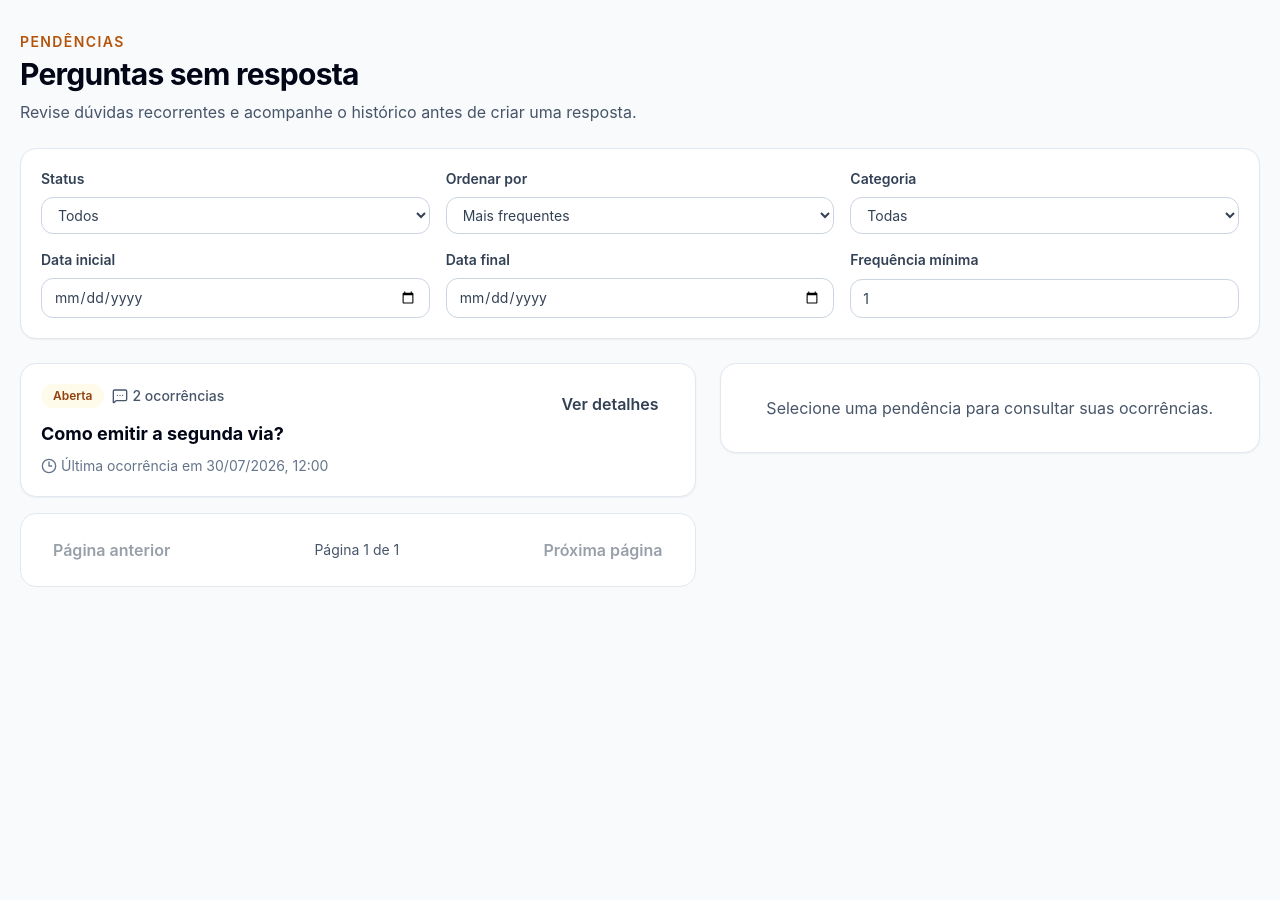
Scenario: knowledge gap administration › dismisses an open gap with a reason and then offers reopening
Click the button "Ver detalhes": (610, 404) x1=545 y1=384 x2=675 y2=424
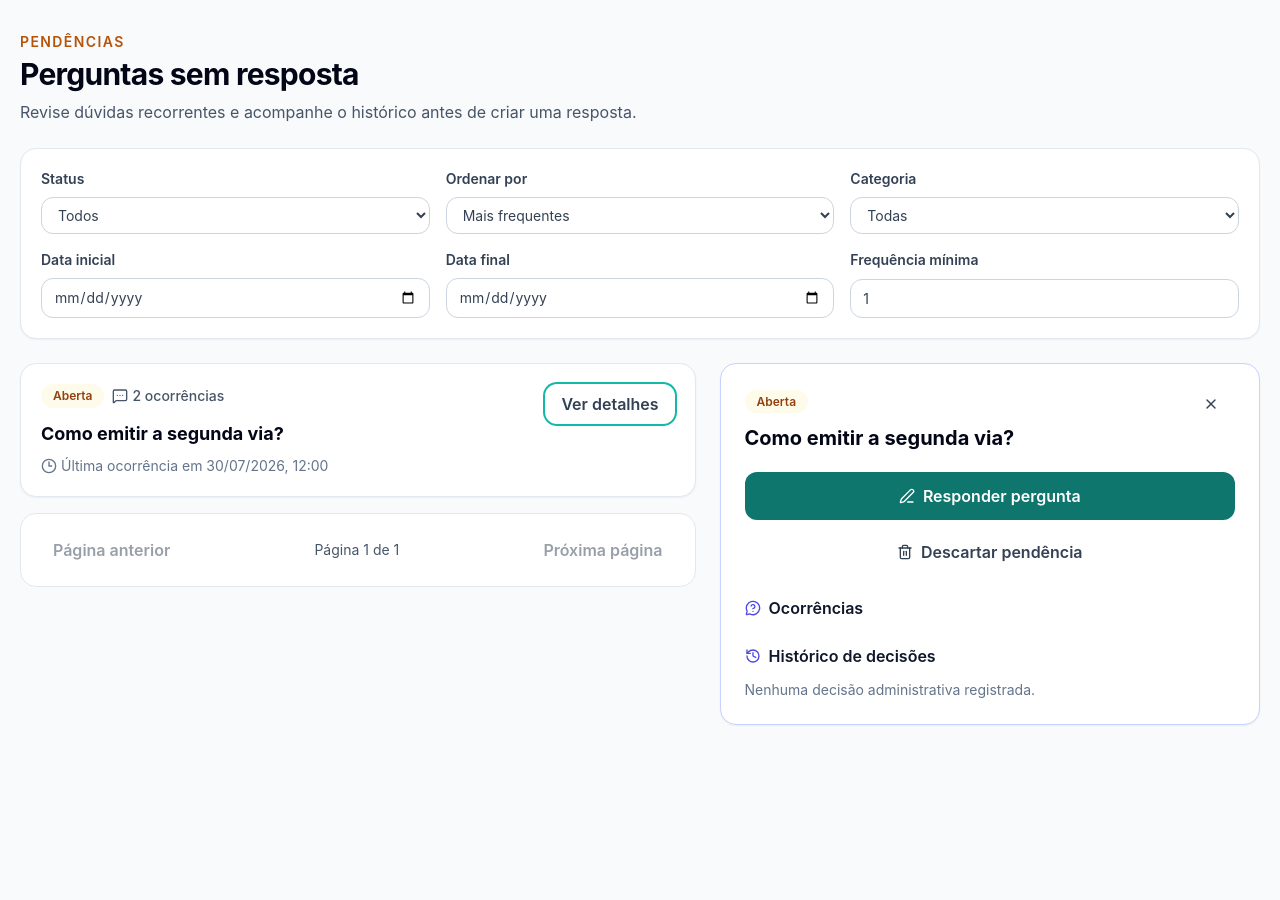
Click the button "Descartar pendência": (990, 552) x1=744 y1=532 x2=1235 y2=572
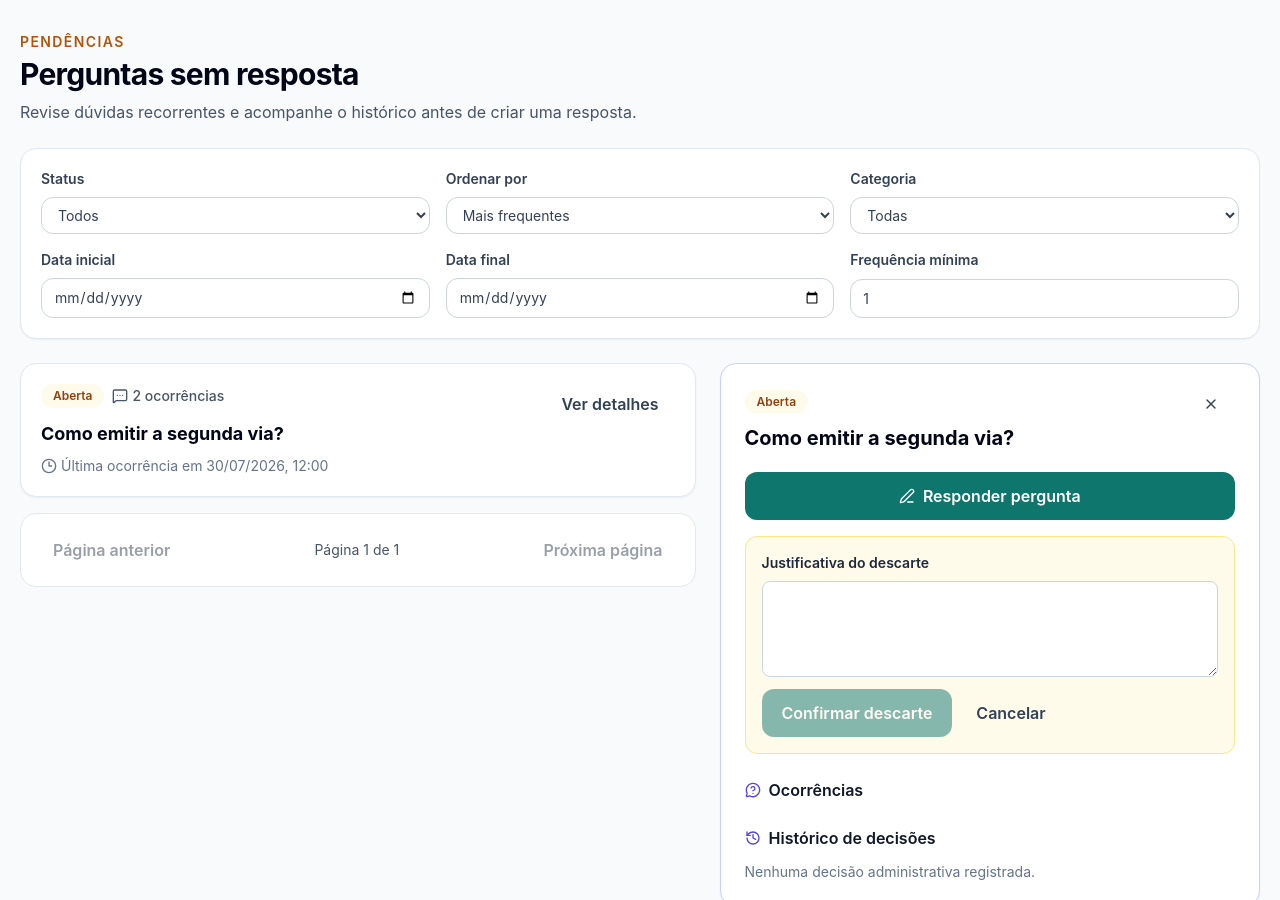
In the text box labelled "Justificativa do descarte": (990, 629) x1=762 y1=581 x2=1218 y2=677, type "Não pertence ao escopo do atendimento."
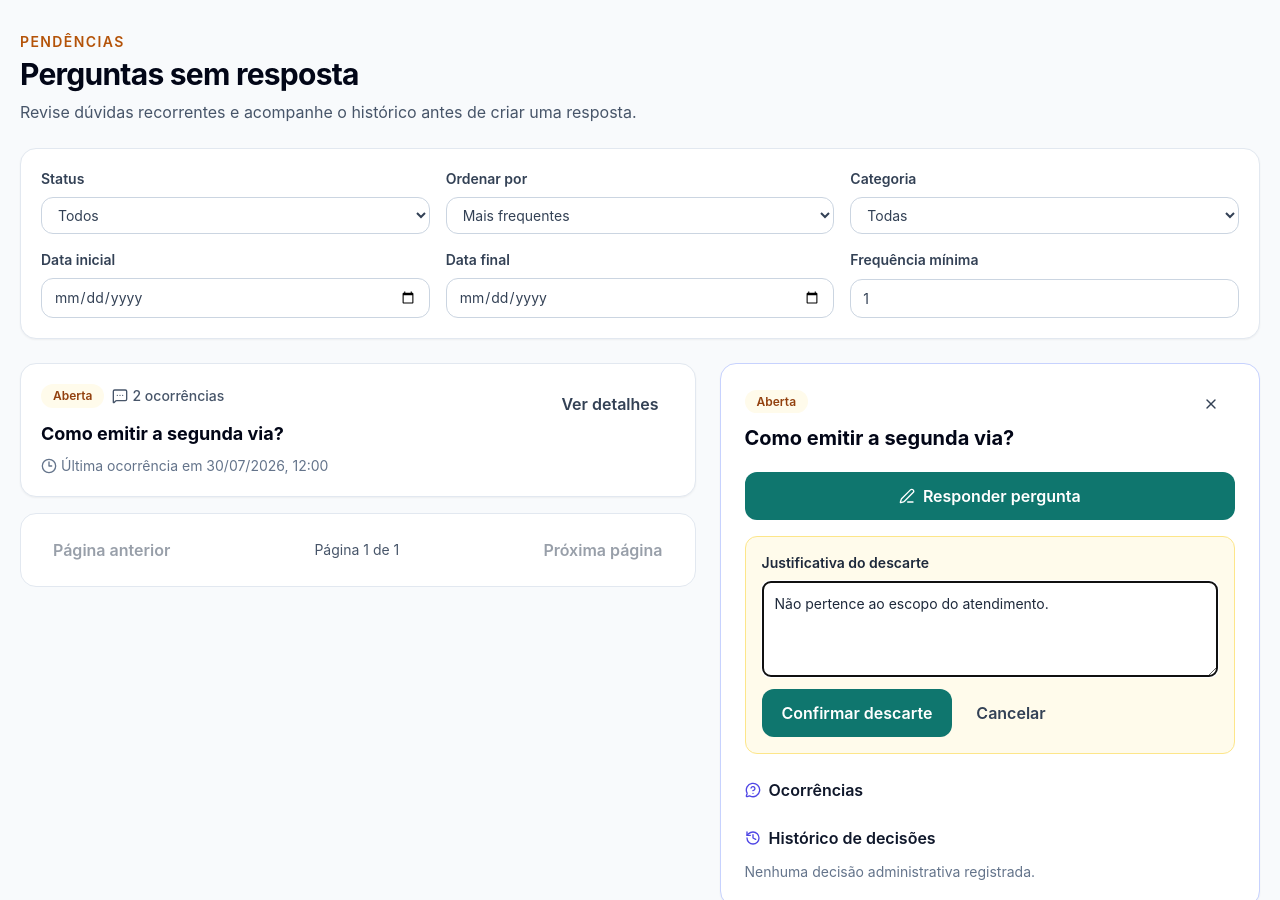
Click the button "Confirmar descarte": (857, 713) x1=762 y1=689 x2=952 y2=737
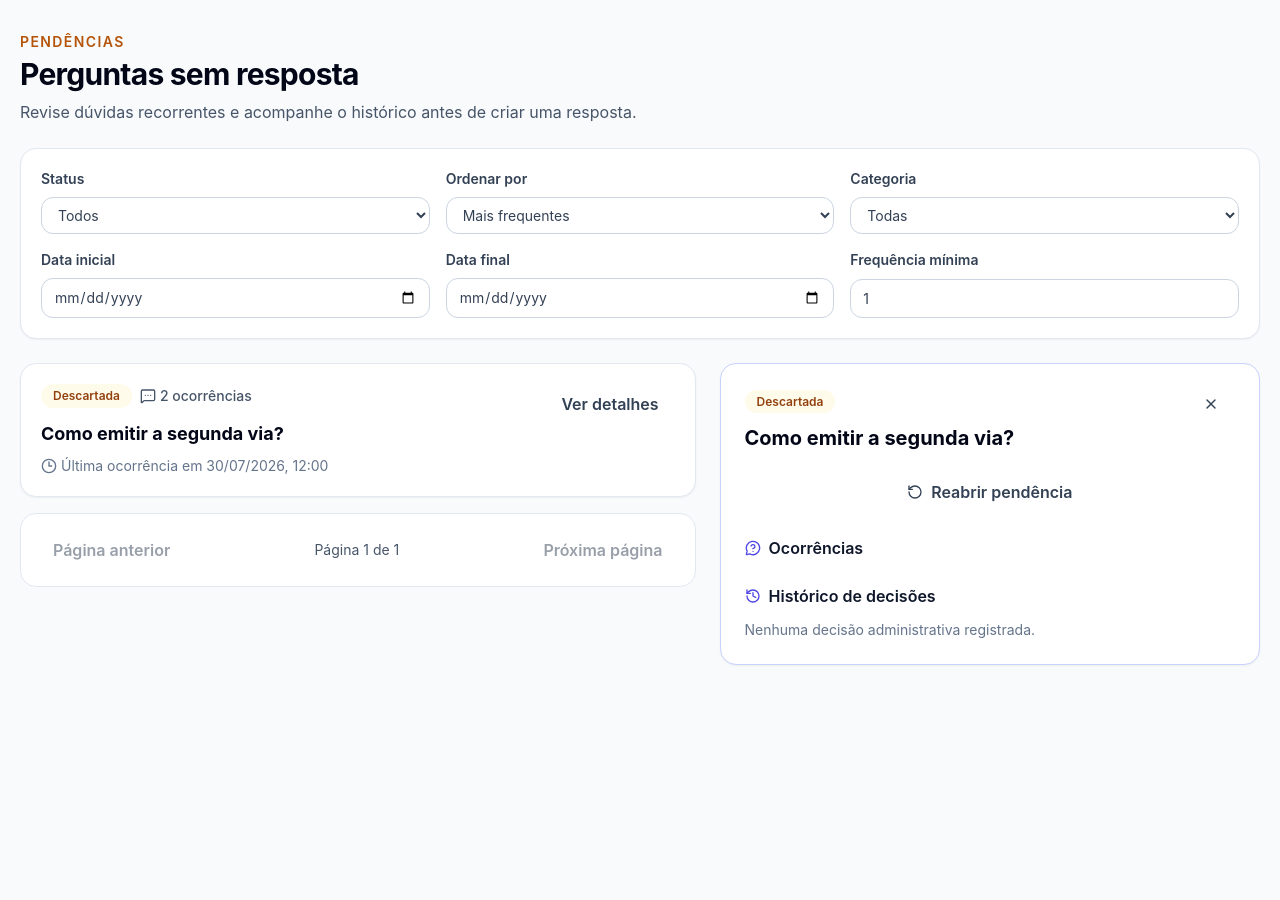
Result: the button "Reabrir pendência" is shown at x1=744 y1=472 x2=1235 y2=512
